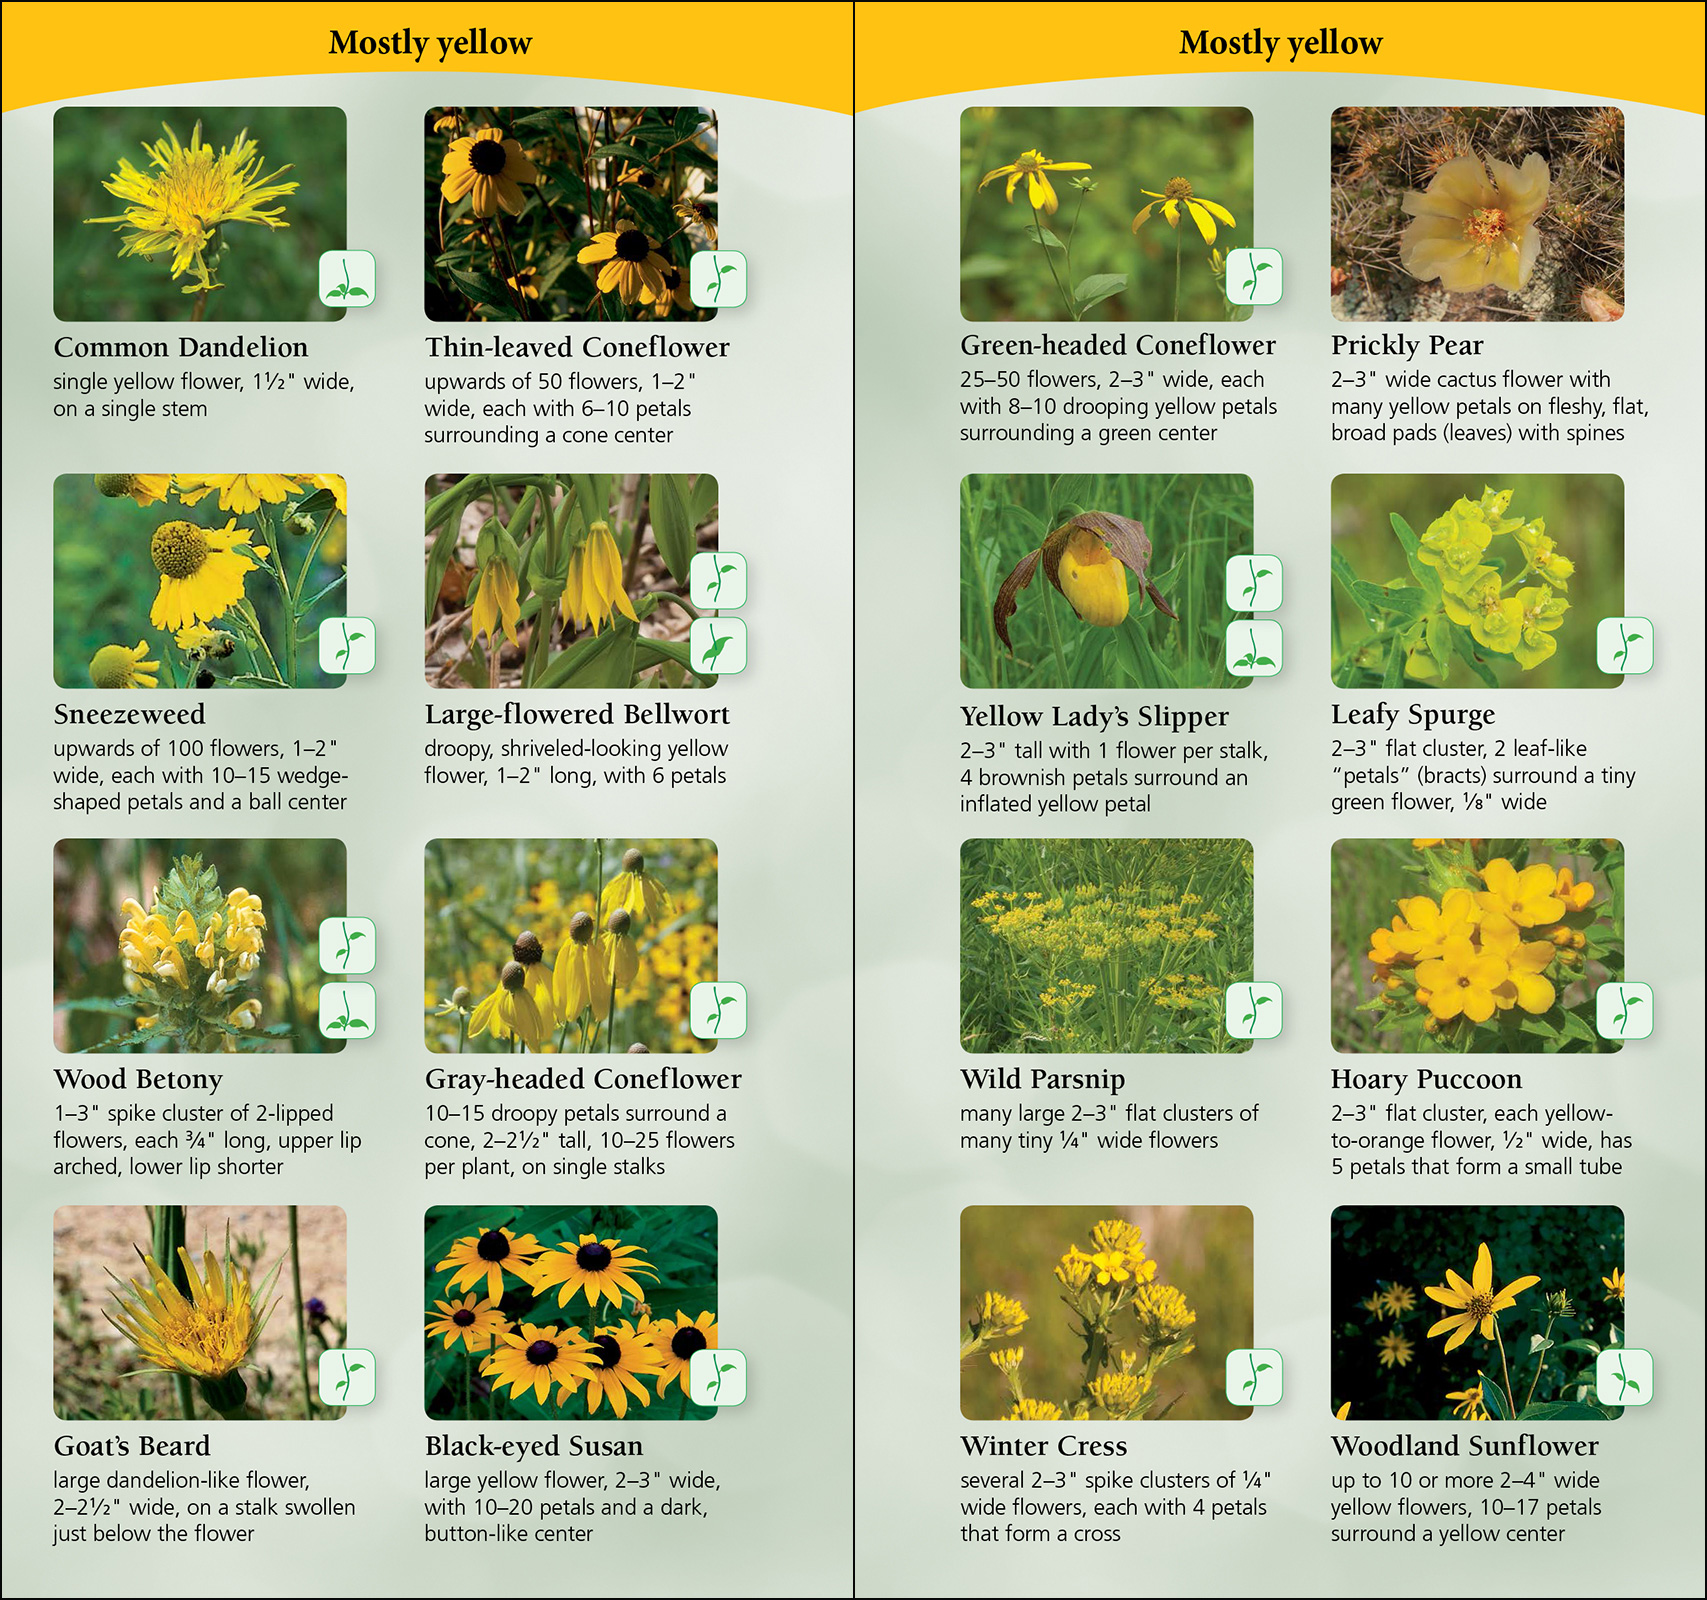dandelion: (1045, 1241, 1199, 1405), (81, 147, 269, 265), (84, 1253, 275, 1365), (138, 547, 262, 629), (981, 156, 1090, 236), (1145, 168, 1236, 250)
